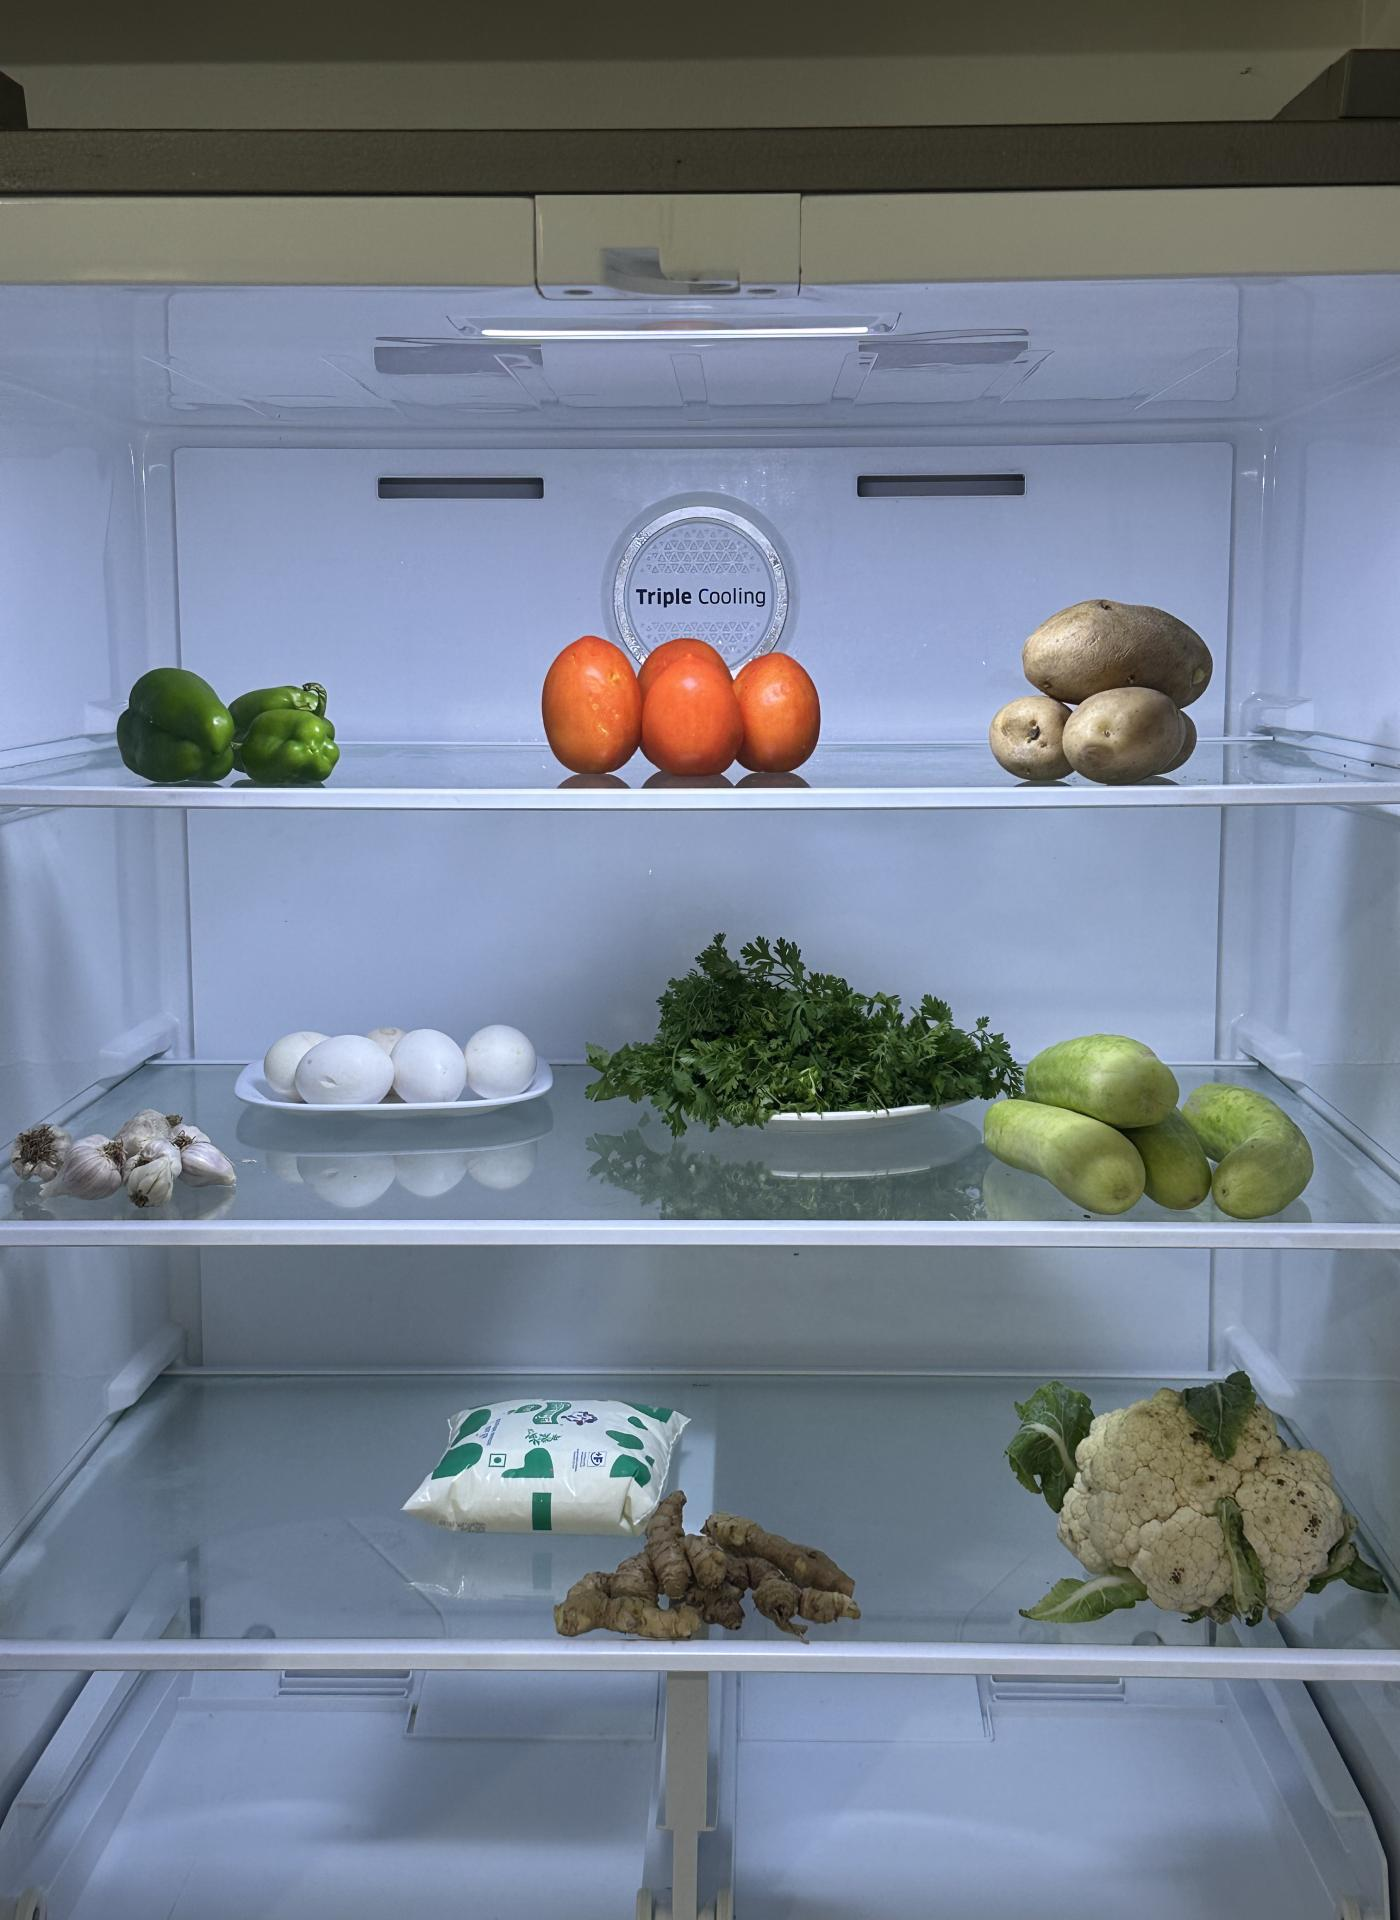capsicum: (94, 642, 361, 792)
coriander: (622, 944, 977, 1149)
cucumber: (991, 1030, 1302, 1230)
egg: (250, 1015, 558, 1118)
garlic: (10, 1096, 246, 1213)
ginger: (1056, 1377, 1358, 1622), (552, 1519, 865, 1644)
milk: (435, 1382, 669, 1531)
potato: (996, 596, 1206, 780)
tomato: (538, 625, 817, 792)
